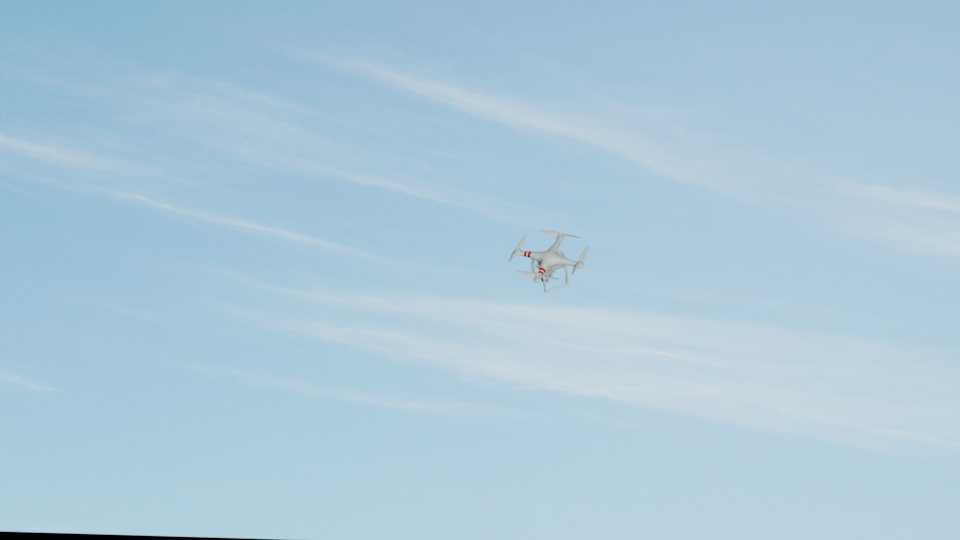drone: (510, 227, 591, 292)
